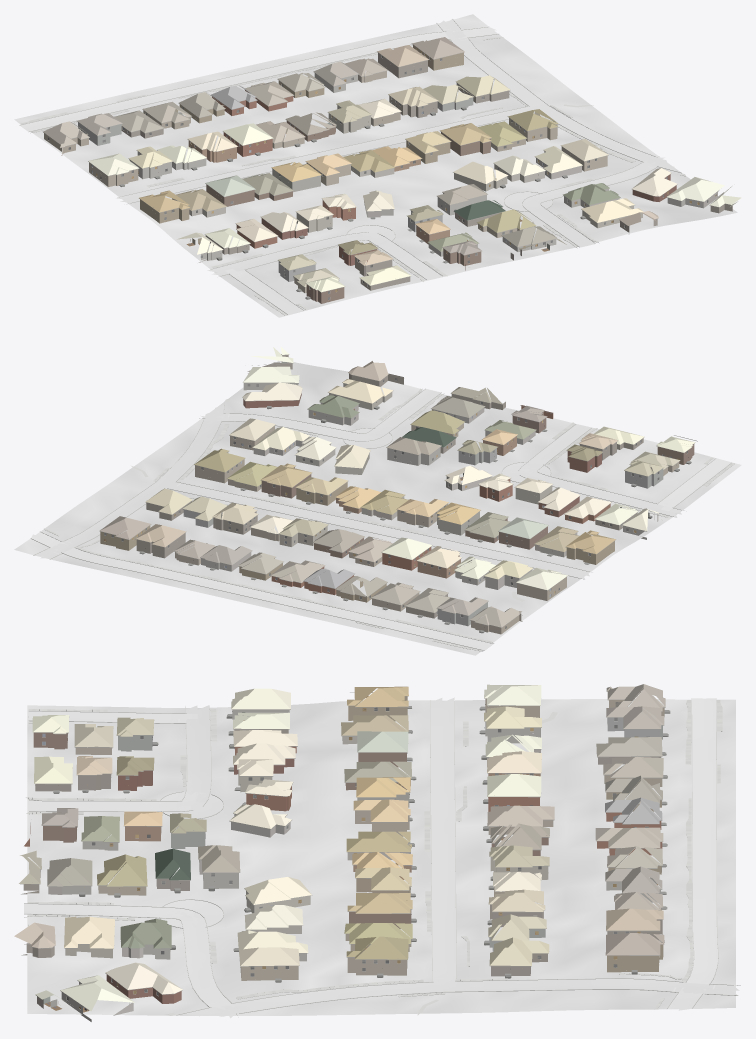
3 renders of one model, top to bottom at view 1: azimuth 30°, elevation 25°; view 2: azimuth 150°, elevation 25°; view 3: azimuth 270°, elevation 25°, orthographic. The views are drawn at different scales.
Visible parts, largest first — view 1: ground, roof, concrete, wall, wall_stucco, detail, curb, wall_stone, walk, glass; view 2: ground, roof, concrete, wall, wall_stucco, detail, curb, wall_stone, walk, glass; view 3: ground, roof, concrete, wall, wall_stucco, walk, detail, curb, wall_stone, glass.
Boxes of the visible parts, left/top/right/bottom form: ground: left=14, top=14, right=737, bottom=317; roof: left=43, top=37, right=741, bottom=292; concrete: left=20, top=19, right=675, bottom=314; wall: left=44, top=45, right=732, bottom=303; wall_stucco: left=78, top=71, right=642, bottom=293; detail: left=43, top=43, right=731, bottom=300; curb: left=19, top=19, right=685, bottom=315; wall_stone: left=129, top=73, right=723, bottom=262; walk: left=21, top=37, right=685, bottom=315; glass: left=48, top=55, right=707, bottom=299; ground: left=14, top=360, right=741, bottom=655; roof: left=99, top=347, right=694, bottom=627; concrete: left=31, top=389, right=730, bottom=650; wall: left=100, top=354, right=694, bottom=634; wall_stucco: left=175, top=383, right=679, bottom=626; detail: left=99, top=354, right=697, bottom=633; curb: left=31, top=388, right=734, bottom=651; wall_stone: left=201, top=383, right=658, bottom=589; walk: left=44, top=388, right=734, bottom=651; glass: left=104, top=378, right=687, bottom=628; ground: left=27, top=699, right=735, bottom=1015; roof: left=14, top=684, right=665, bottom=1011; concrete: left=24, top=698, right=739, bottom=1018; wall: left=21, top=692, right=664, bottom=1008; wall_stucco: left=65, top=717, right=662, bottom=980; walk: left=25, top=700, right=722, bottom=1015; detail: left=20, top=691, right=670, bottom=1009; curb: left=24, top=697, right=740, bottom=1015; wall_stone: left=48, top=709, right=660, bottom=1021; glass: left=67, top=702, right=649, bottom=1000.
Bounding box in the file's own units: 260 × 16.19 × 257.
